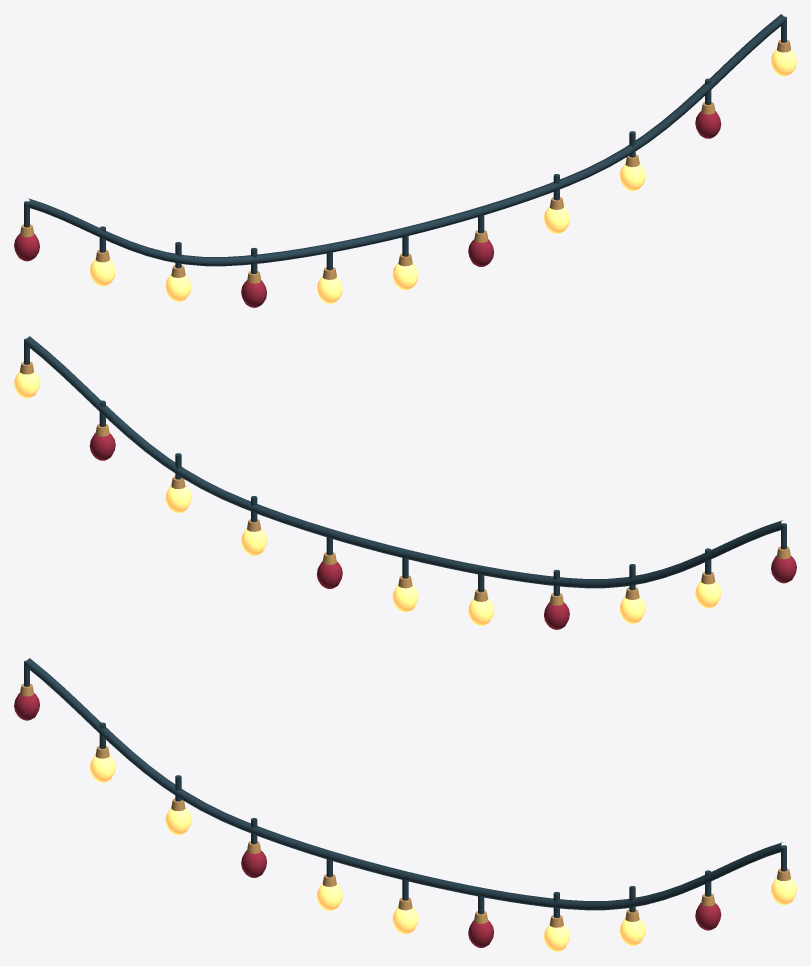
The model's file is storybook-christmas-market-festoon-bulb-string-9422da4e.glb.
3 views of the same model, one above another, from view 1: azimuth 30°, elevation 25°; view 2: azimuth 150°, elevation 25°; view 3: azimuth 330°, elevation 25° (orthographic).
Parts seen in each view (by area): view 1: festoon-bulb-string; view 2: festoon-bulb-string; view 3: festoon-bulb-string.
Part boxes in pixels (left/top/right/bottom): festoon-bulb-string: left=14, top=14, right=796, bottom=307; festoon-bulb-string: left=14, top=336, right=796, bottom=629; festoon-bulb-string: left=14, top=658, right=796, bottom=951.
Size of the model in its own units: 3.09 by 0.6914 by 0.0855.
